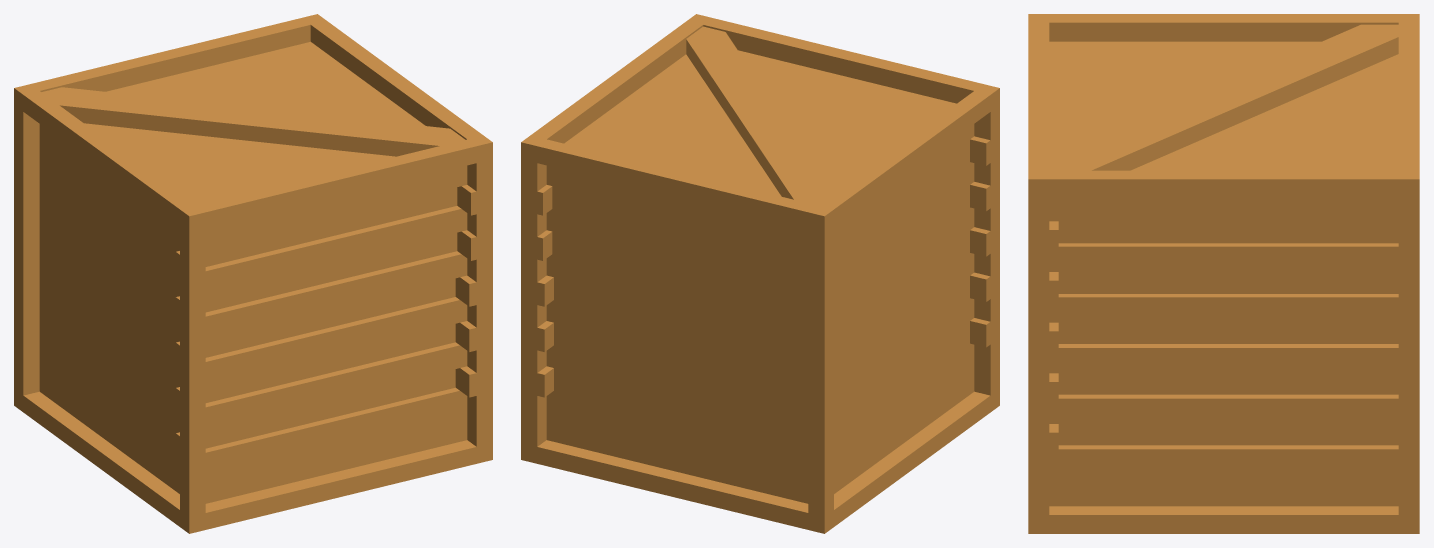
The model's file is crate.fbx.
The picture shows the model from 3 angles, left to right: view 1: azimuth 30°, elevation 25°; view 2: azimuth 150°, elevation 25°; view 3: azimuth 270°, elevation 25°; orthographic projection. The views are drawn at different scales.
Visible parts, largest first — view 1: Cube; view 2: Cube; view 3: Cube.
Boxes of the visible parts, bbox=[...] form: Cube: bbox=[14, 14, 492, 533]; Cube: bbox=[521, 14, 999, 533]; Cube: bbox=[1028, 14, 1419, 533].
Size of the model in its own units: 214 by 214 by 214.
